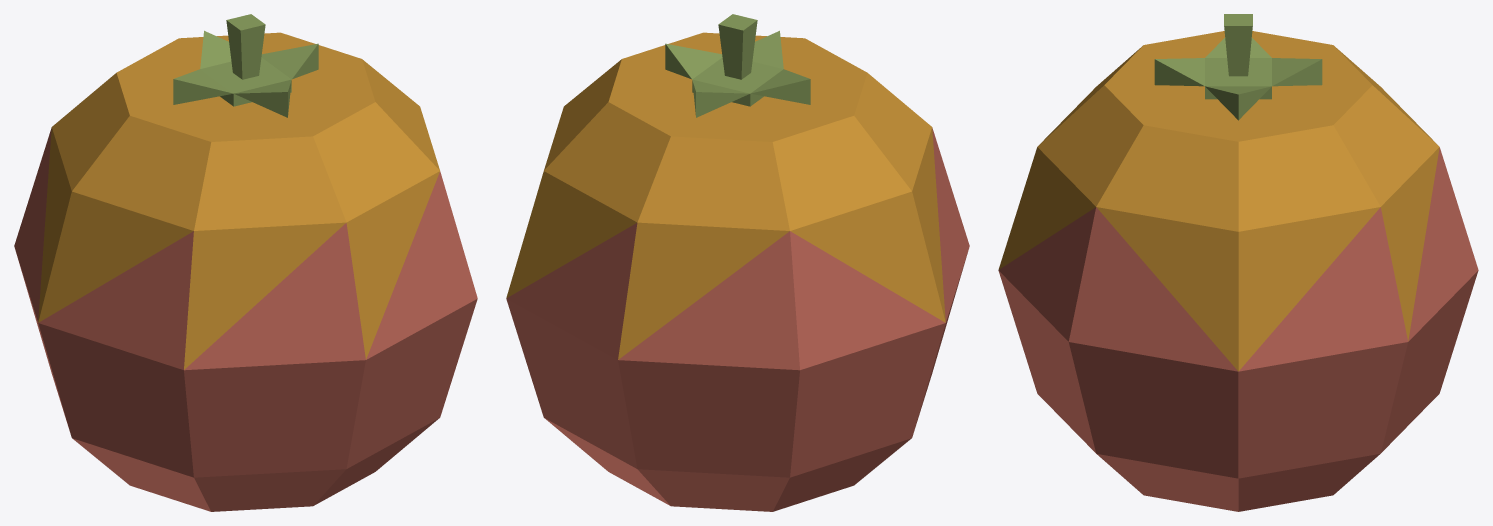
File: orange.glb
3 views of the same model, side by side, from view 1: azimuth 30°, elevation 25°; view 2: azimuth 150°, elevation 25°; view 3: azimuth 270°, elevation 25° (orthographic).
Bounding box in the file's own units: 1 × 1 × 1.
